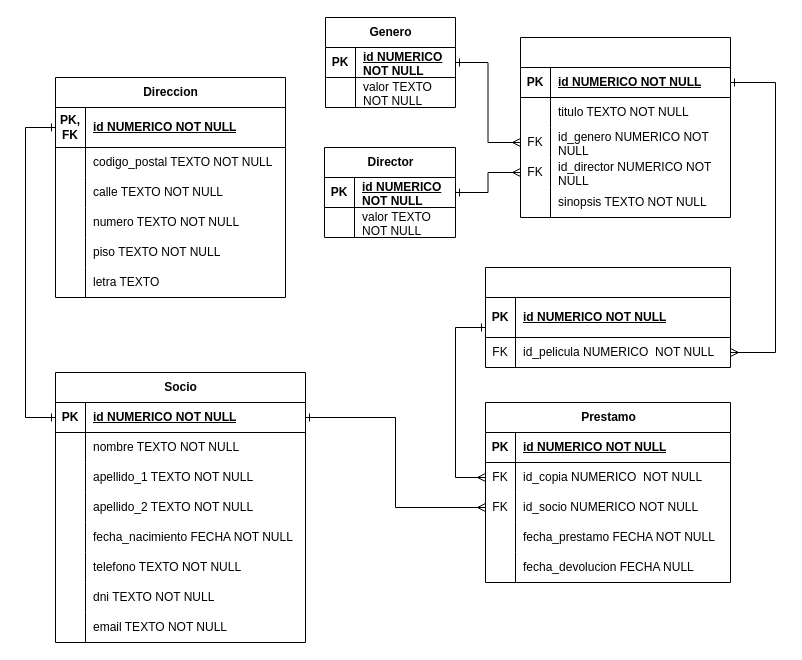
Image size: 802x660. Some labels were removed from this diagram. Here are the shapes that lost their labels. From the top down, the box of each, then its label:
(520, 36, 730, 218): Pelicula
(484, 266, 730, 368): copia
